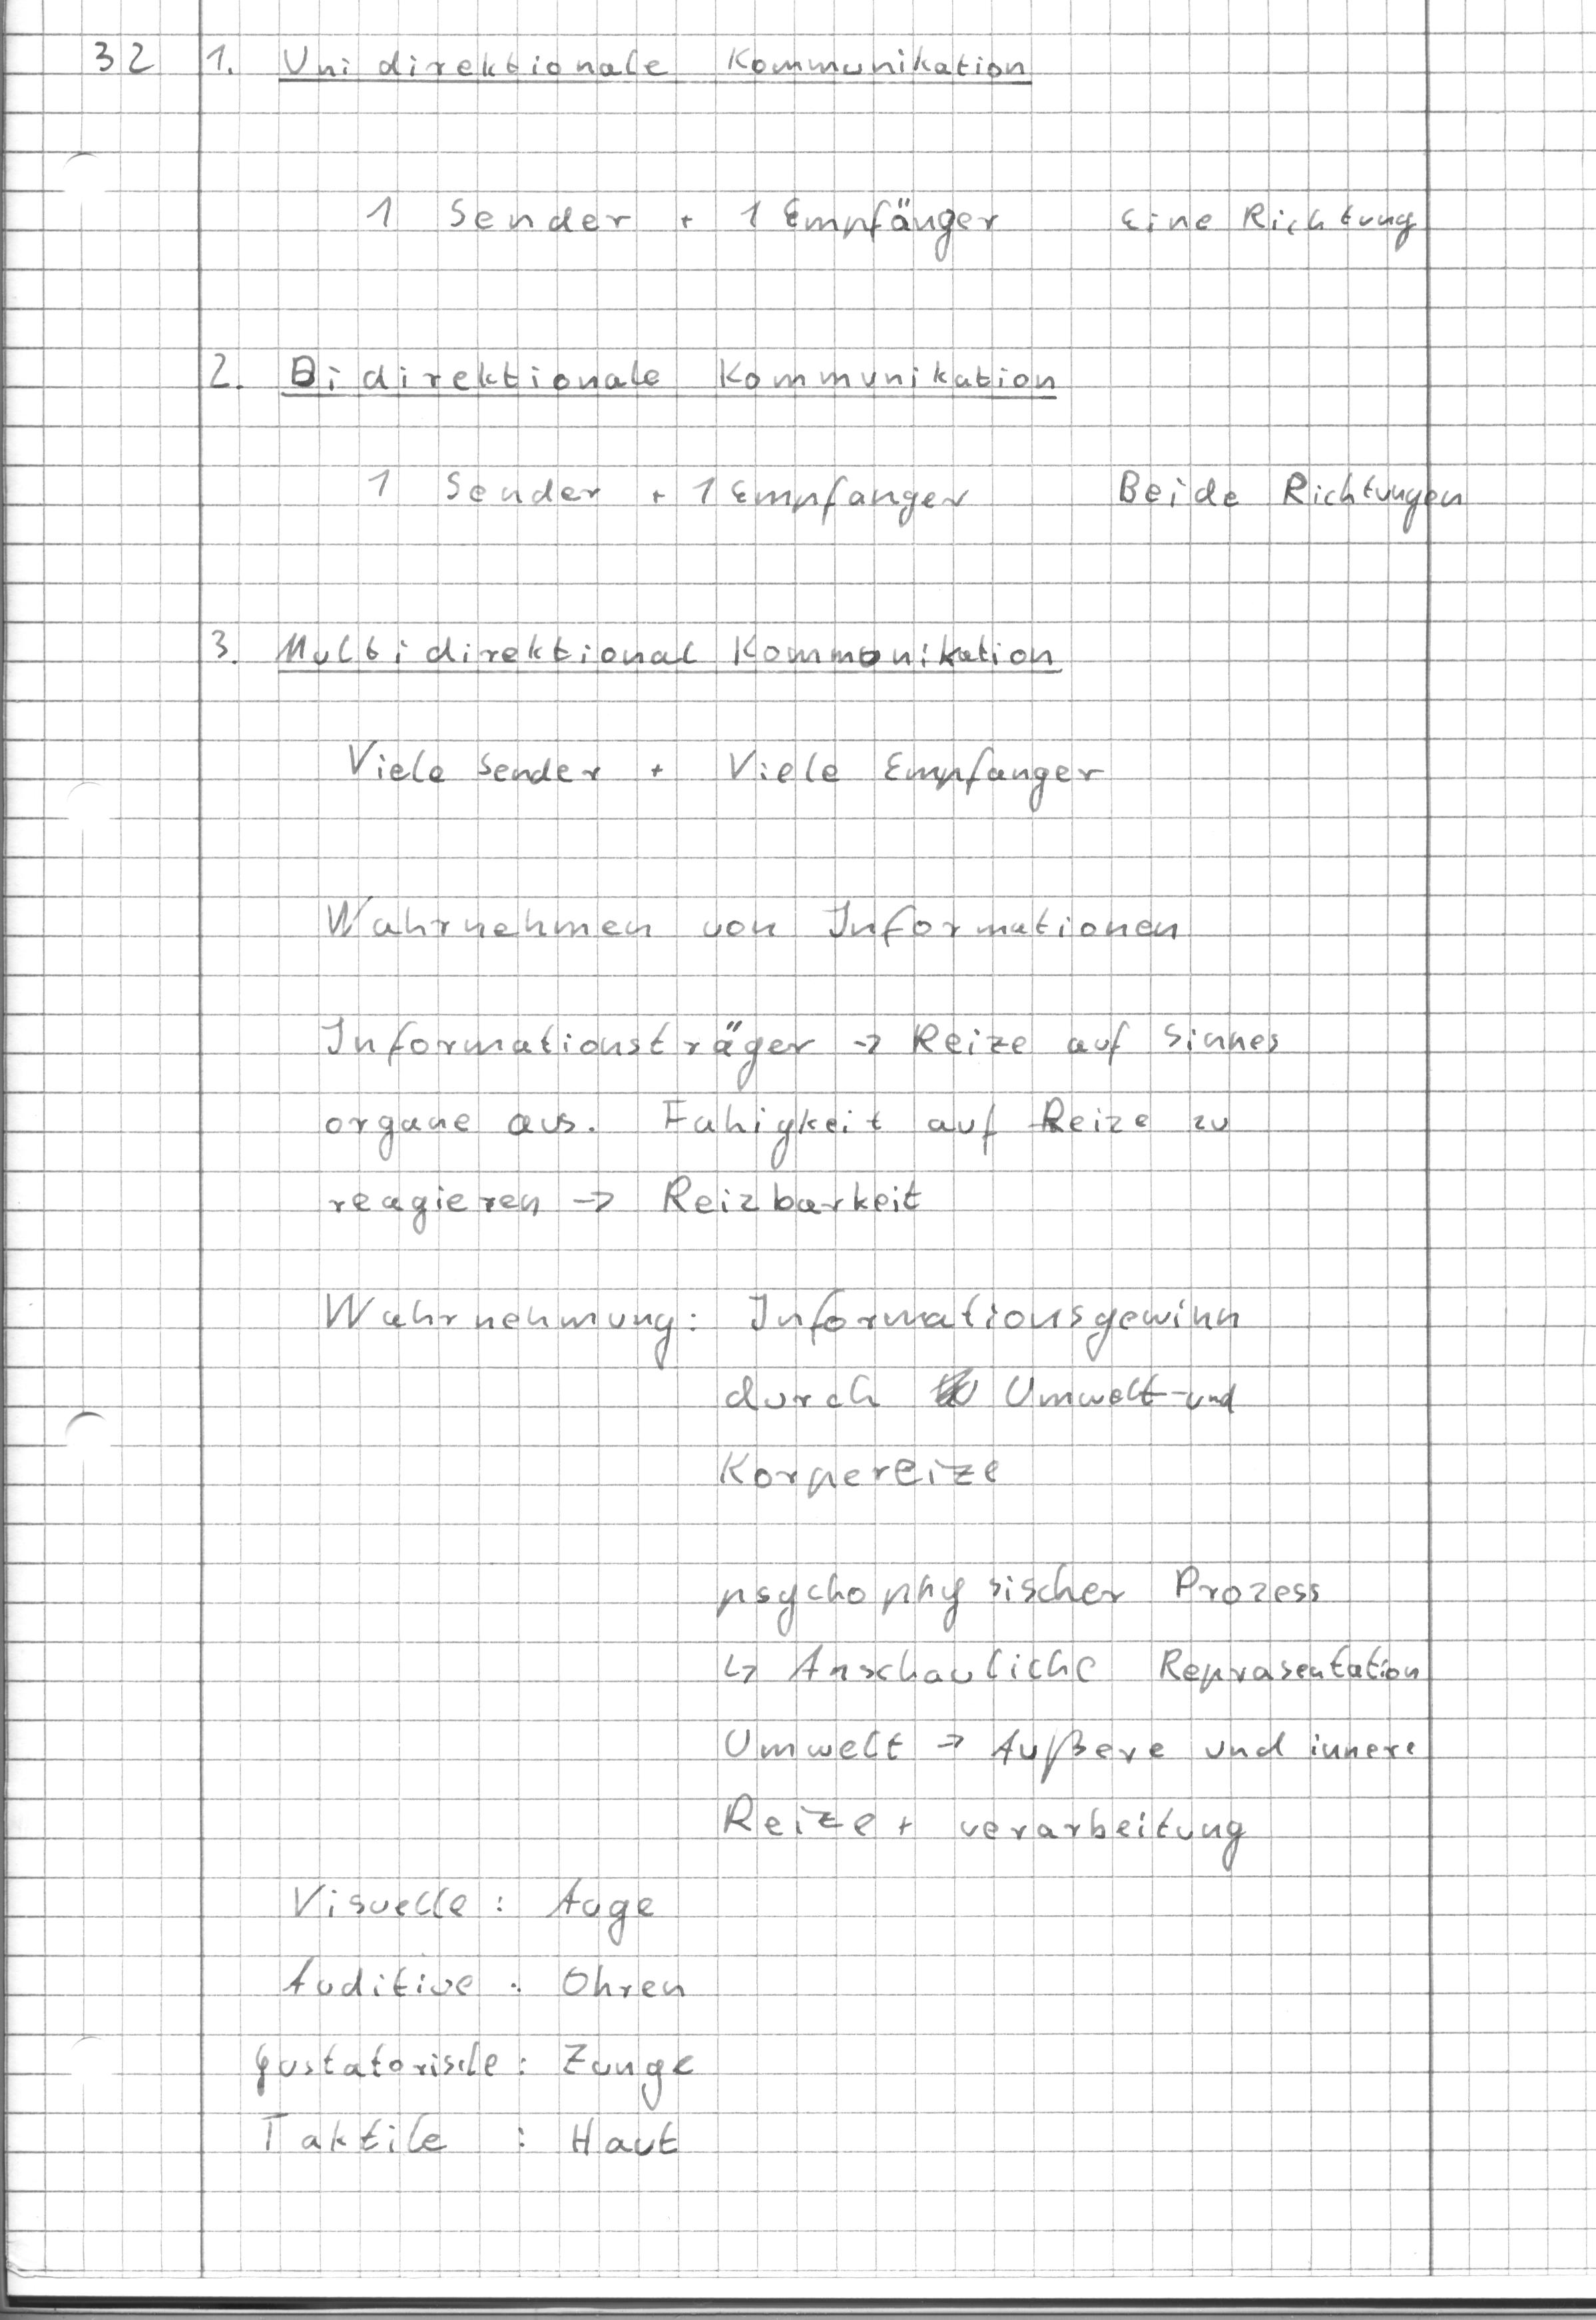word: (696, 1556, 1437, 1881), (314, 1003, 1284, 1233), (236, 1864, 714, 2193), (712, 1275, 1258, 1513), (352, 437, 1471, 543), (354, 169, 1435, 274), (310, 882, 1198, 985), (82, 21, 1051, 116), (190, 599, 1085, 699), (330, 715, 1124, 823), (190, 333, 1095, 424), (306, 1277, 708, 1381)
